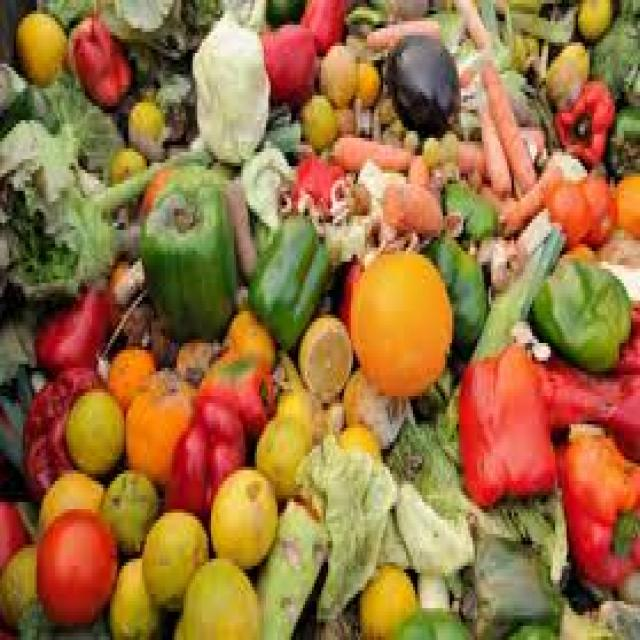food_waste: (26, 47, 618, 613)
